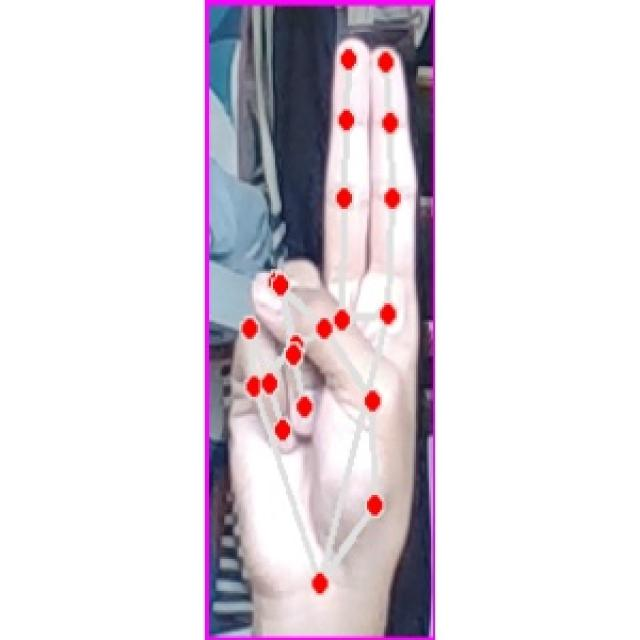U: (225, 40, 414, 602)
